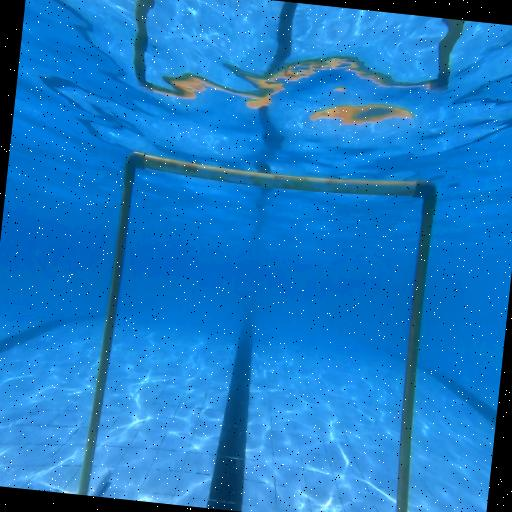gate: (73, 148, 445, 512)
